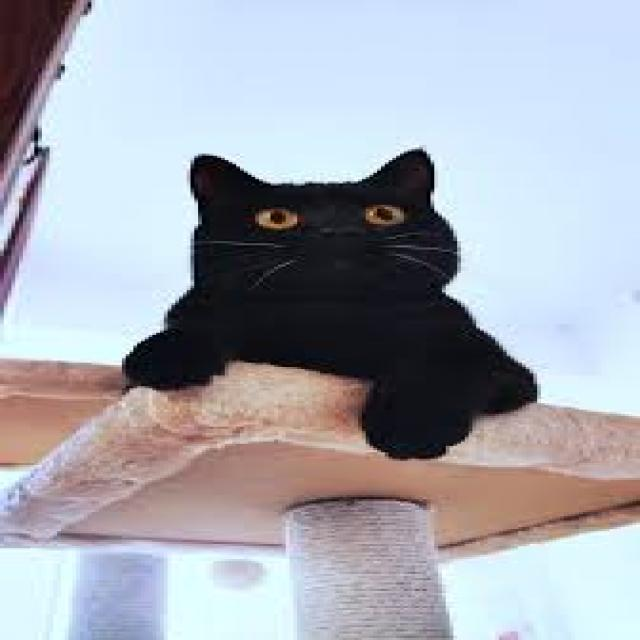black cat: (120, 120, 566, 502)
